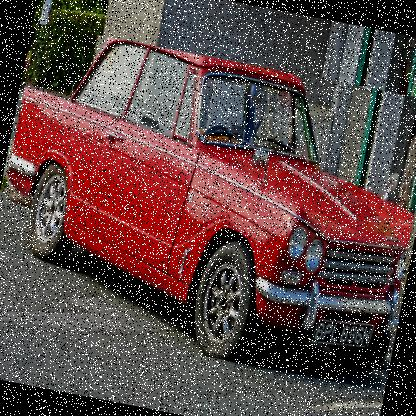Car: (0, 23, 415, 392)
